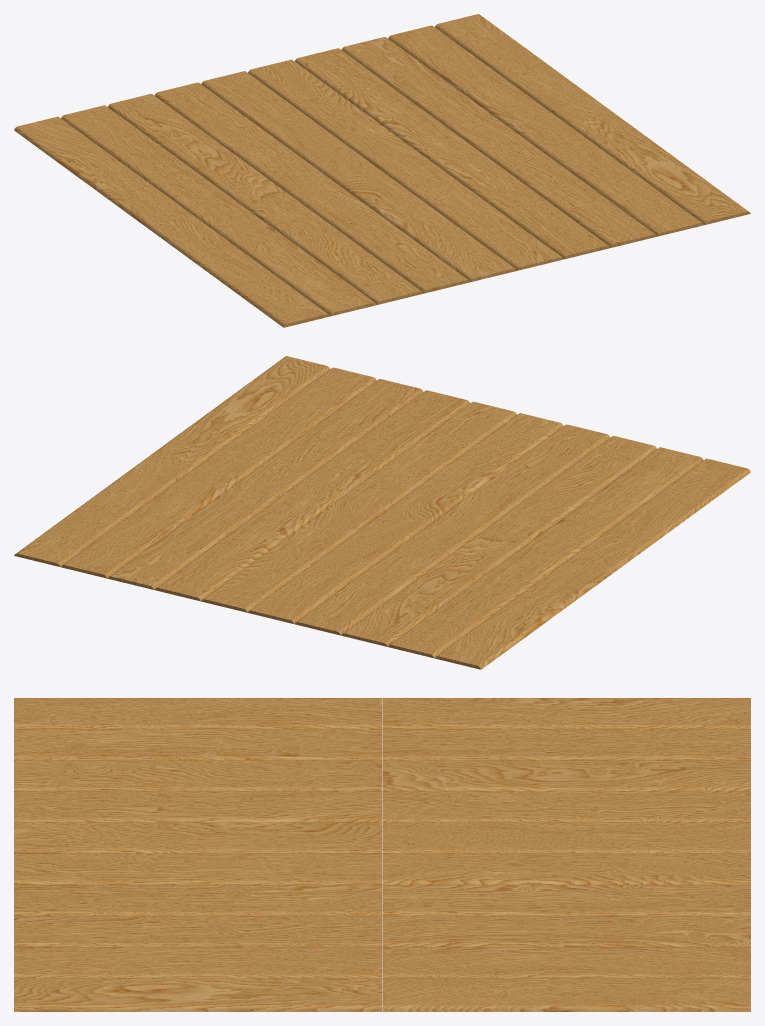
Rendered from ENV_Piso.fbx.
3 views of the same model, one above another, from view 1: azimuth 30°, elevation 25°; view 2: azimuth 150°, elevation 25°; view 3: azimuth 270°, elevation 25° (orthographic). The views are drawn at different scales.
Visible parts, largest first — view 1: m_Piso_04, m_Piso_03, m_Piso_01, m_Piso_02; view 2: m_Piso_01, m_Piso_02, m_Piso_04, m_Piso_03; view 3: m_Piso_02, m_Piso_03, m_Piso_01, m_Piso_04.
Boxes of the visible parts, x1=… form: m_Piso_04: x1=149, y1=170, x2=516, y2=327; m_Piso_03: x1=383, y1=113, x2=750, y2=270; m_Piso_01: x1=14, y1=71, x2=379, y2=228; m_Piso_02: x1=248, y1=14, x2=613, y2=171; m_Piso_01: x1=248, y1=512, x2=615, y2=669; m_Piso_02: x1=14, y1=455, x2=381, y2=612; m_Piso_04: x1=385, y1=413, x2=750, y2=570; m_Piso_03: x1=151, y1=356, x2=516, y2=513; m_Piso_02: x1=382, y1=853, x2=750, y2=1011; m_Piso_03: x1=14, y1=853, x2=382, y2=1011; m_Piso_01: x1=382, y1=698, x2=750, y2=853; m_Piso_04: x1=14, y1=698, x2=382, y2=853.
Bounding box in the file's own units: 417 × 2.66 × 417.
1 material, 1 textured.
